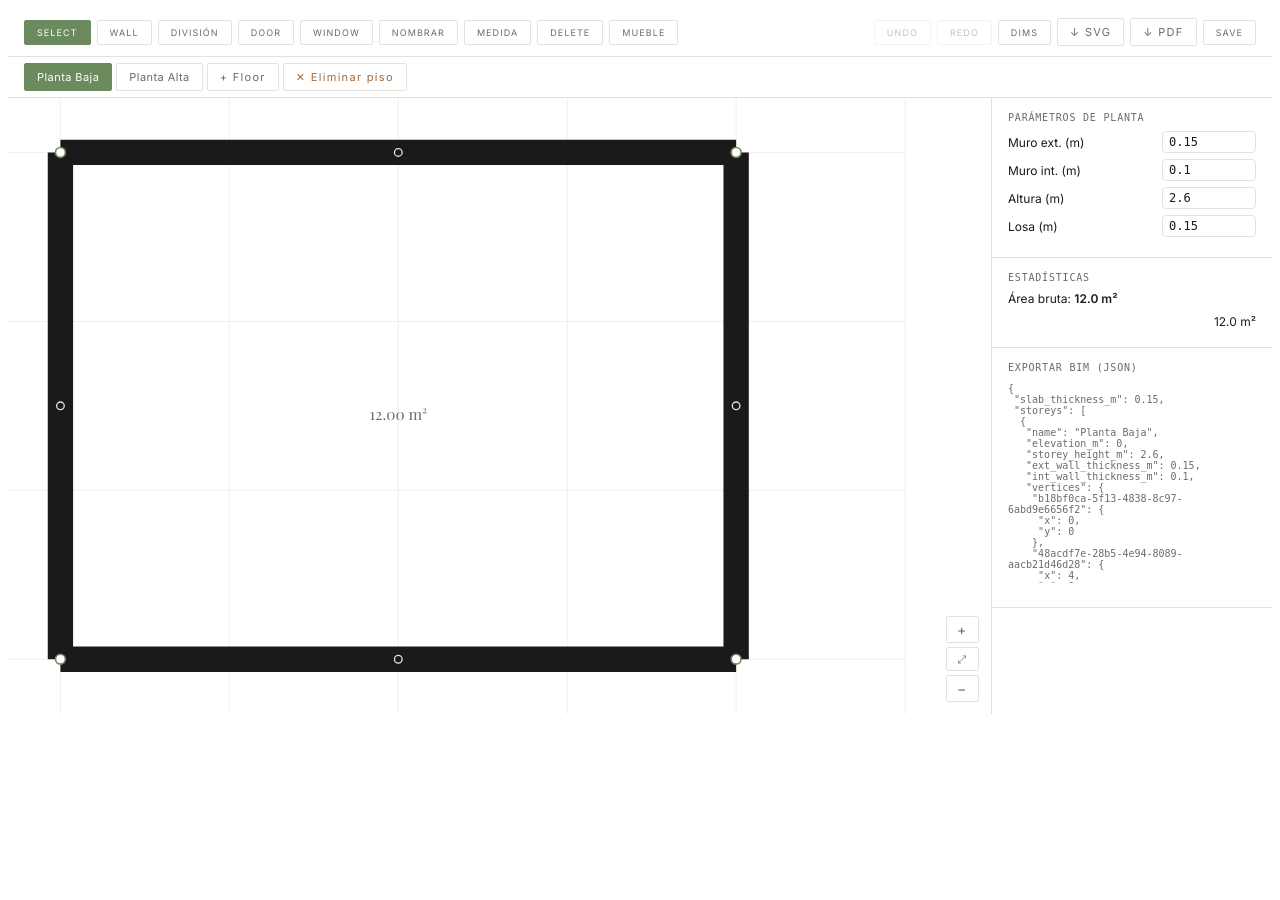
Test: delete floor › removes the selected floor after confirm, and hides the button at one floor
The width and height of the screenshot is (1280, 900).
Step 1. Click the button "Planta Alta" → coordinates (160, 77), box [116, 63, 203, 91]
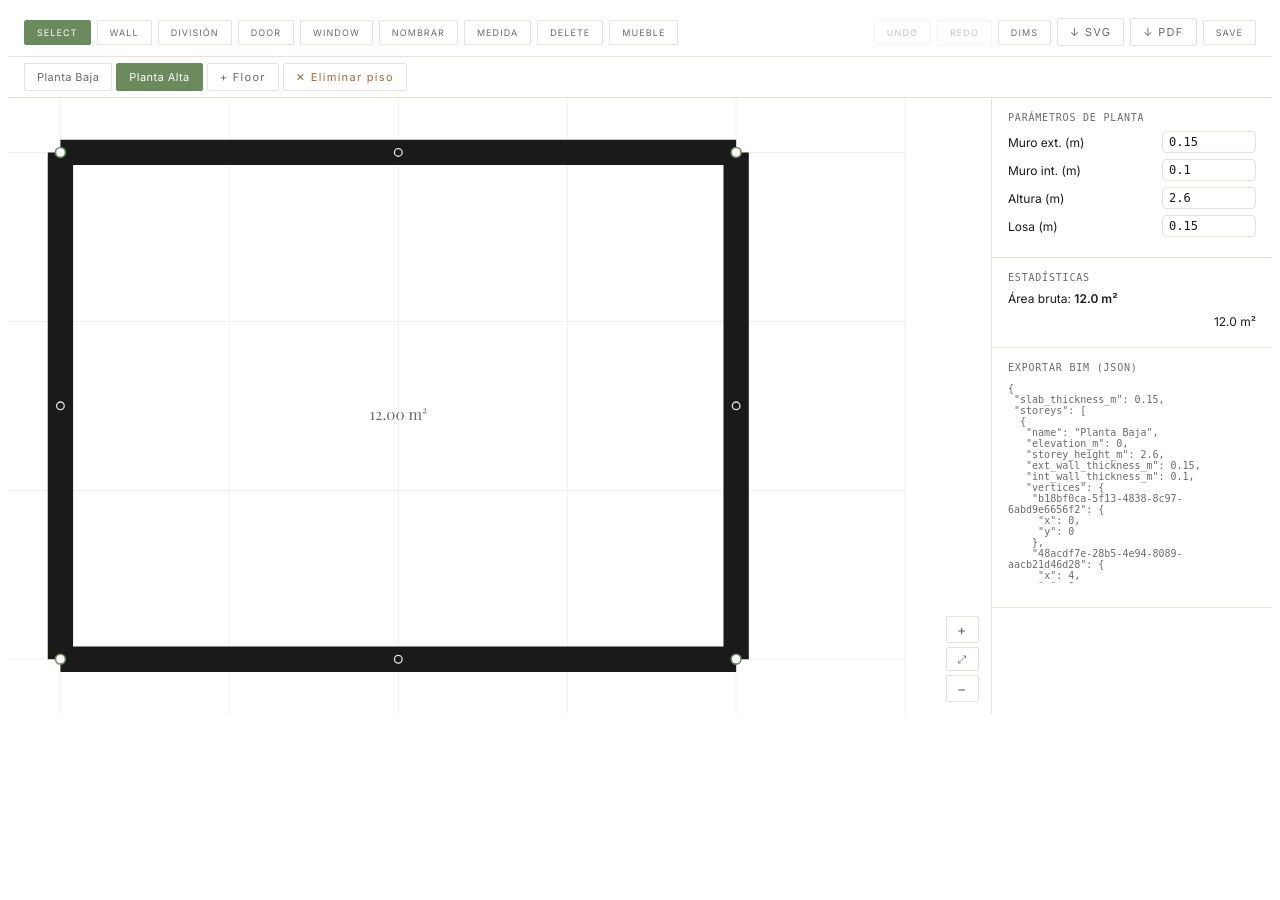
Step 2. Click the button "✕ Eliminar piso" → coordinates (345, 77), box [283, 63, 407, 91]
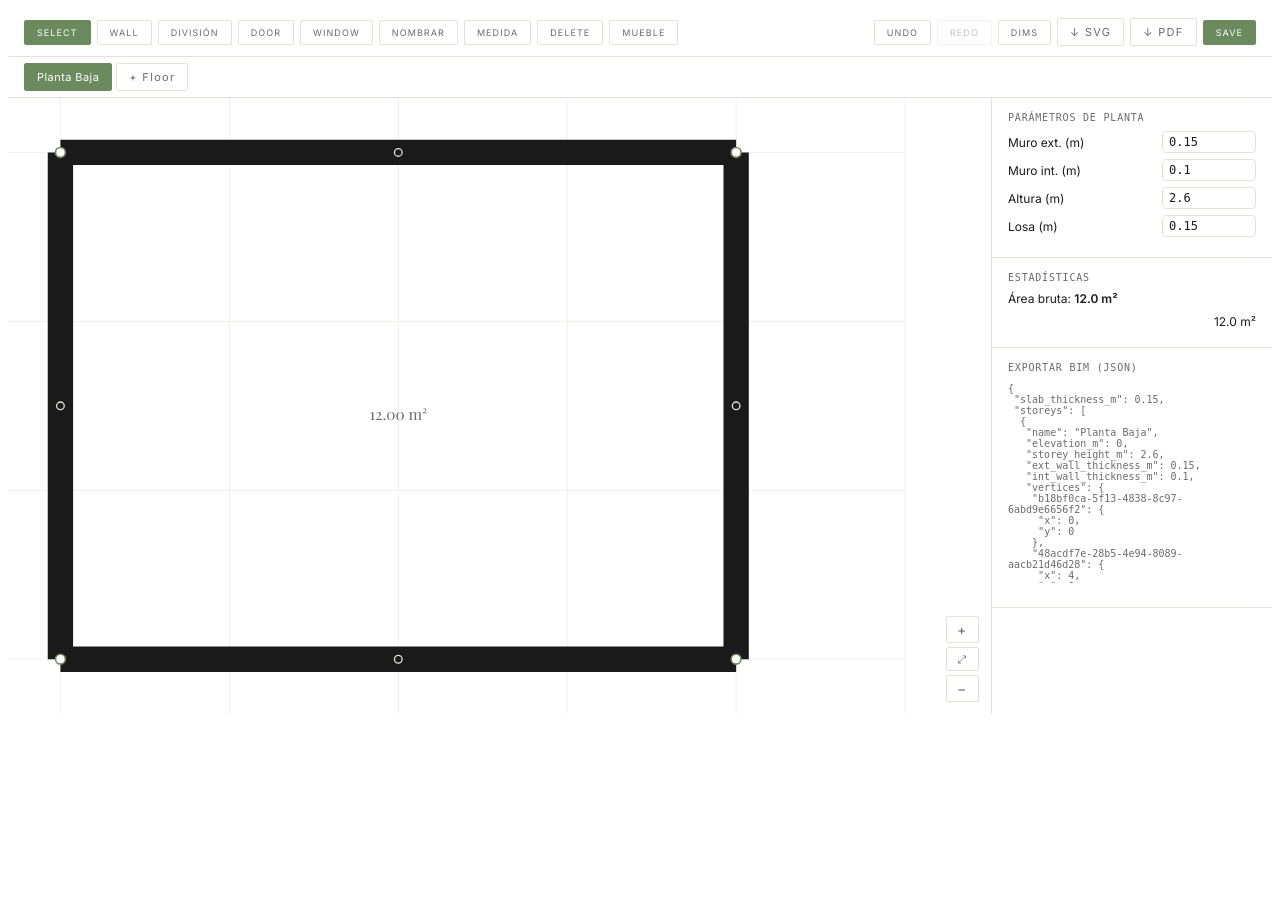
Expected: the button "Planta Baja" is shown, [24, 63, 112, 91]
Expected: the button "Planta Alta" is gone
Expected: the button "✕ Eliminar piso" is gone
